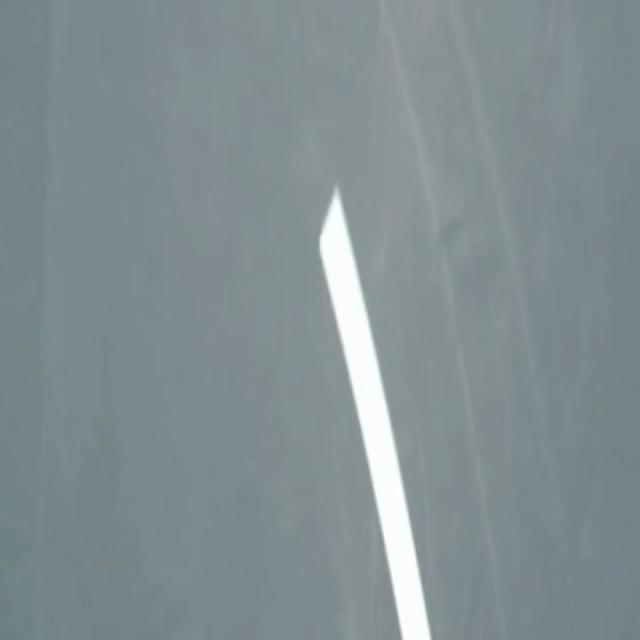center: (319, 187, 431, 639)
